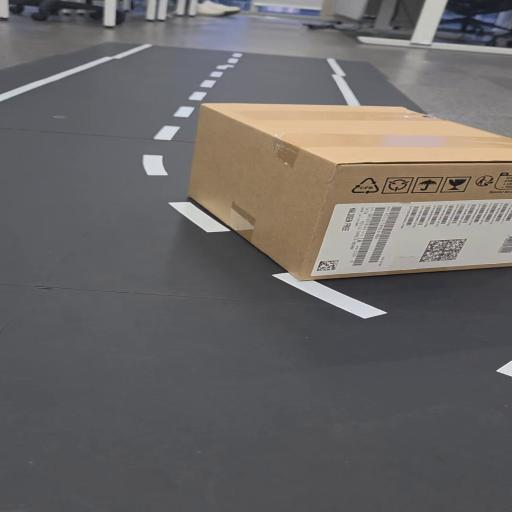Box: (186, 98, 512, 280)
